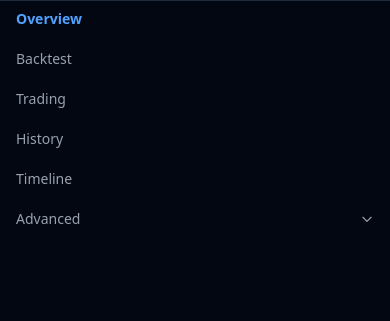
Test case: MobileMenu › expands group items on button click
Click the button "Advanced".
click(48, 218)  # box [16,201,374,237]
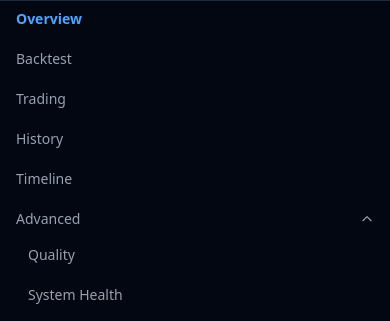
Result: the link "Quality" is shown at [28,245,75,264]
Result: the link "System Health" is shown at [28,285,123,304]
